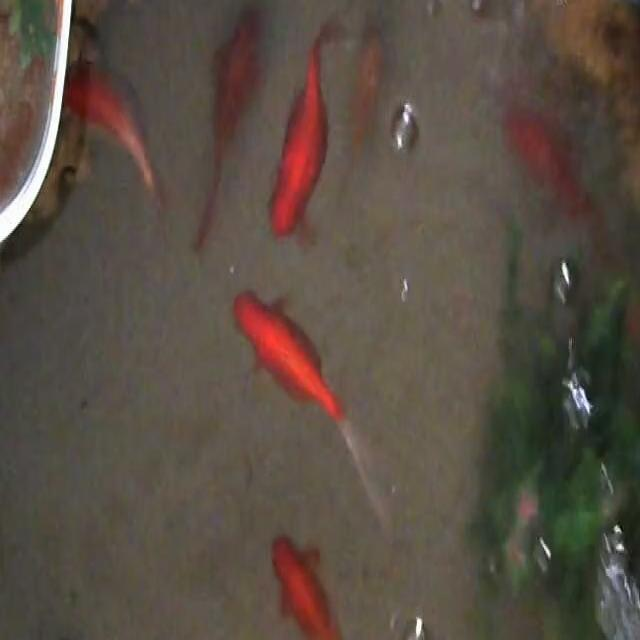fish: (233, 281, 396, 530), (267, 14, 346, 248), (192, 0, 264, 249), (63, 57, 162, 206), (501, 97, 600, 226), (268, 524, 365, 640), (346, 20, 385, 172)
